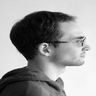ear: (32, 38, 56, 62)
